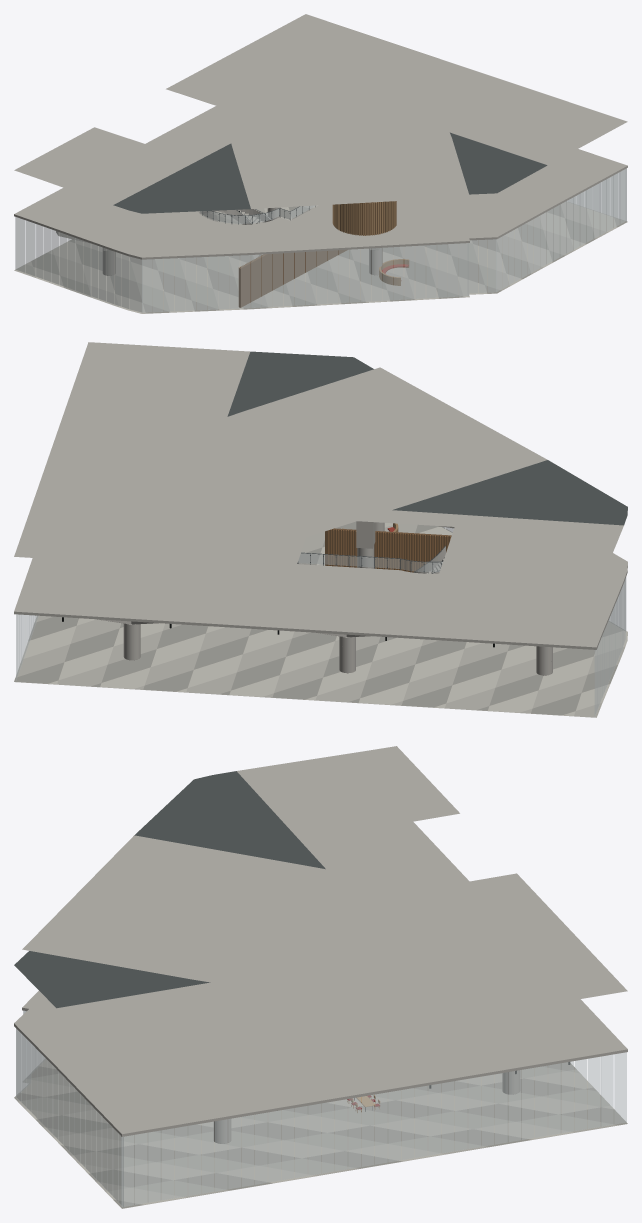
Rendered from mar-interior-11915d8f9c7f.glb.
The picture shows the model from 3 angles, top to bottom: view 1: azimuth 30°, elevation 25°; view 2: azimuth 150°, elevation 25°; view 3: azimuth 270°, elevation 25°; orthographic projection. The views are drawn at different scales.
Parts seen in each view (by area): view 1: MAR.001; view 2: MAR.001; view 3: MAR.001.
Part boxes in pixels (x1=…): MAR.001: x1=14, y1=14, x2=627, y2=313; MAR.001: x1=14, y1=342, x2=627, y2=717; MAR.001: x1=14, y1=746, x2=627, y2=1208.
Bounding box in the file's own units: 67.69 × 12.7 × 53.21.
